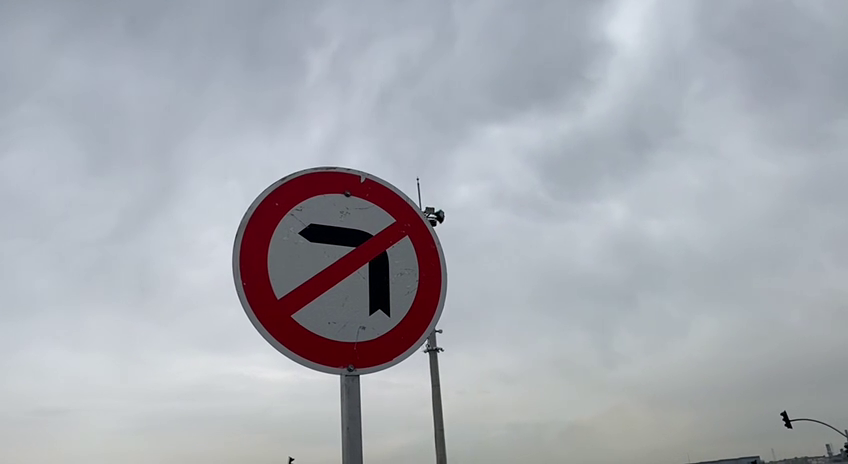noTurnLeft: (223, 157, 456, 383)
